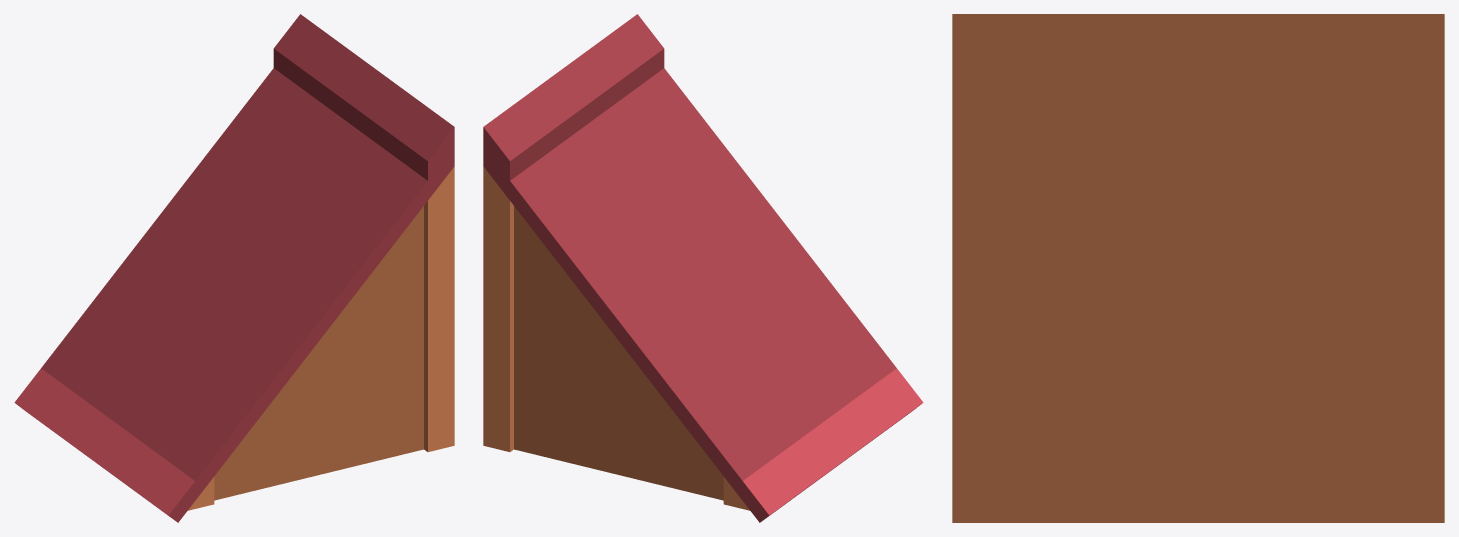
The model's file is roofHigh.obj.
3 views of the same model, side by side, from view 1: azimuth 30°, elevation 25°; view 2: azimuth 150°, elevation 25°; view 3: azimuth 270°, elevation 25° (orthographic). The views are drawn at different scales.
Parts seen in each view (by area): view 1: roofHigh; view 2: roofHigh; view 3: roofHigh.
Part boxes in pixels (x1=…): roofHigh: x1=14, y1=14, x2=454, y2=522; roofHigh: x1=483, y1=14, x2=923, y2=522; roofHigh: x1=952, y1=14, x2=1444, y2=522.
Bounding box in the file's own units: 1.07 × 1.18 × 1.
